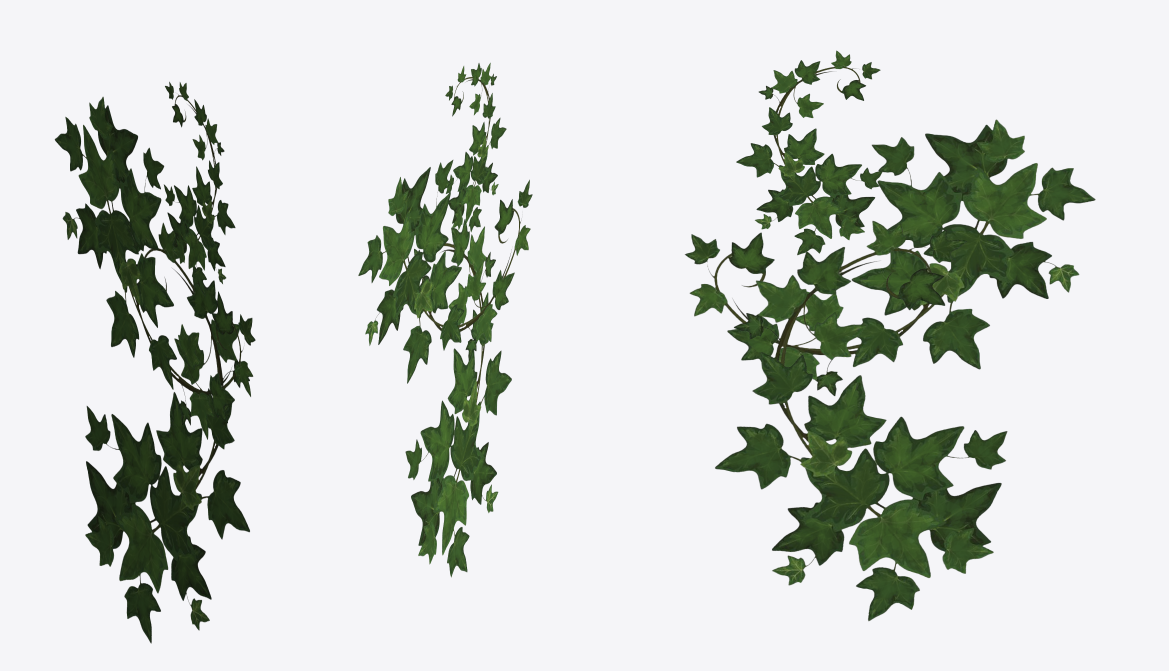
The model's file is vine.glb.
3 views of the same model, side by side, from view 1: azimuth 30°, elevation 25°; view 2: azimuth 150°, elevation 25°; view 3: azimuth 270°, elevation 25° (orthographic). The views are drawn at different scales.
Visible parts, largest first — view 1: Lierre; view 2: Lierre; view 3: Lierre.
Part boxes in pixels (x1,y1,x2,y2): Lierre: (54,81,255,643); Lierre: (358,62,532,577); Lierre: (685,50,1095,620).
Bounding box in the file's own units: 0.0871 × 0.912 × 0.707.
Materials: 1 (1 with a texture image).
